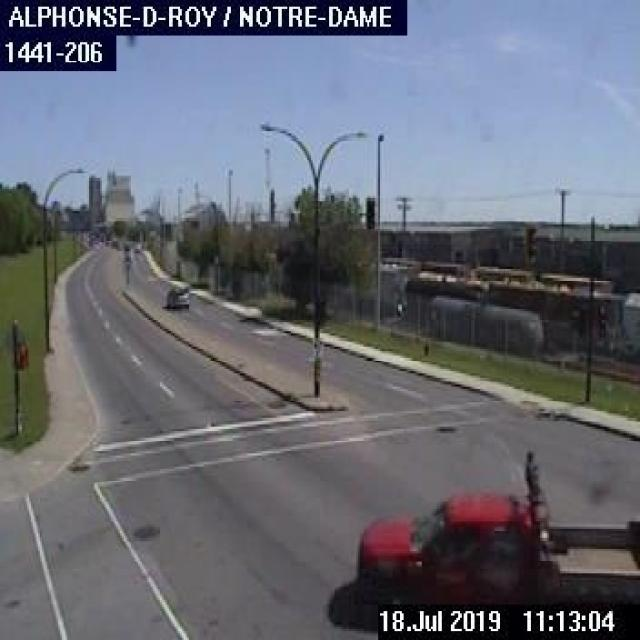vehicle: (355, 449, 638, 604), (164, 284, 192, 309)
